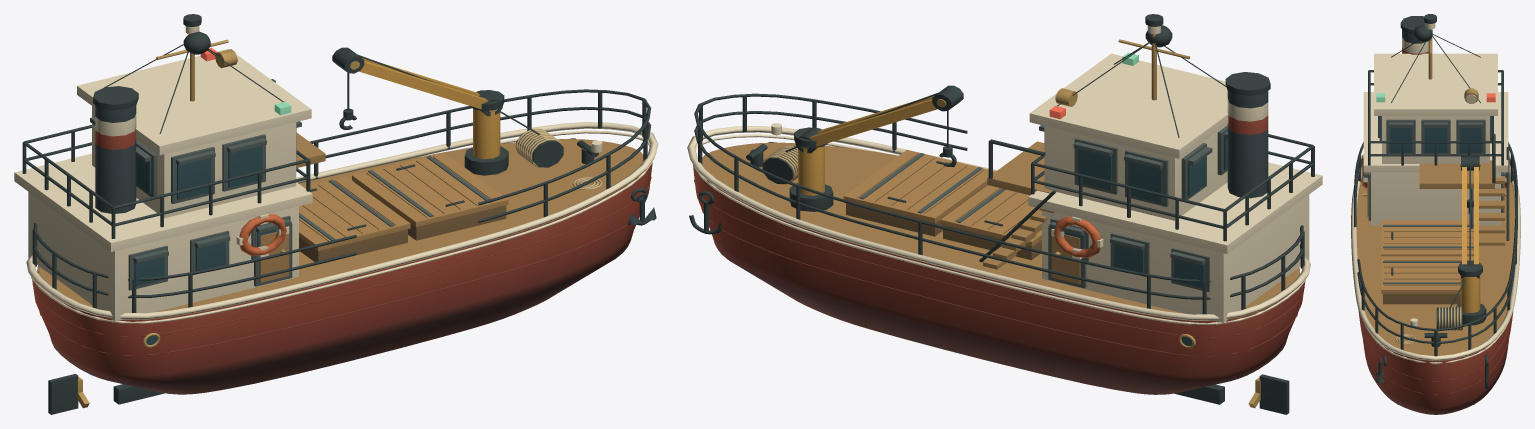
File: city-working-boat.glb
The picture shows the model from 3 angles, left to right: view 1: azimuth 30°, elevation 25°; view 2: azimuth 150°, elevation 25°; view 3: azimuth 270°, elevation 25°; orthographic projection. The views are drawn at different scales.
Visible parts, largest first — view 1: cargo-hull, cream (×5), aft-house, open-cargo-deck, hatch (×2), rail (×6), wheelhouse, cabin-window (×4), crane (×2), seam (×2), stack, plateSeam (×2) (+8 smaller); view 2: cargo-hull, cream (×5), aft-house, open-cargo-deck, rail (×6), hatch (×2), wheelhouse, cabin-window (×5), crane (×2), stack, seam (×2), plateSeam (×2) (+8 smaller); view 3: cream (×5), open-cargo-deck, cargo-hull, hatch (×2), rail (×12), aft-house, wheelhouse, cabin-window (×3), crane (×3), frame (×5), bridge-wing, deck (×5) (+5 smaller).
Part boxes in pixels (x1,y1,x2,y2): cargo-hull: (32, 162, 652, 394); cream (×5): (14, 48, 658, 323); aft-house: (28, 192, 298, 321); open-cargo-deck: (37, 139, 643, 312); hatch (×2): (299, 152, 508, 250); rail (×6): (33, 86, 651, 298); wheelhouse: (92, 106, 296, 218); cabin-window (×4): (134, 145, 262, 286); crane (×2): (359, 61, 500, 159); seam (×2): (299, 183, 506, 264); stack: (95, 140, 136, 213); plateSeam (×2): (32, 176, 651, 355); cargo-hull: (693, 166, 1305, 394); cream (×5): (687, 53, 1322, 324); aft-house: (1042, 194, 1309, 322); open-cargo-deck: (702, 142, 1300, 313); rail (×6): (694, 72, 1303, 299); hatch (×2): (843, 149, 1041, 246); wheelhouse: (1044, 124, 1227, 220); cabin-window (×5): (1078, 149, 1206, 288); crane (×2): (798, 99, 937, 195); stack: (1227, 125, 1268, 198); seam (×2): (846, 185, 1041, 260); plateSeam (×2): (694, 179, 1304, 356); cream (×5): (1351, 37, 1520, 364); open-cargo-deck: (1356, 178, 1515, 355); cargo-hull: (1359, 312, 1512, 414); hatch (×2): (1381, 220, 1473, 293); rail (×12): (1354, 16, 1517, 344); aft-house: (1371, 172, 1500, 225); wheelhouse: (1382, 116, 1489, 163); cabin-window (×3): (1390, 127, 1481, 152); crane (×3): (1460, 167, 1480, 312); frame (×5): (1383, 119, 1485, 284); bridge-wing: (1419, 160, 1494, 188); deck (×5): (1479, 188, 1504, 245).
Size of the model in its own units: 16.02 by 9.34 by 5.2.
